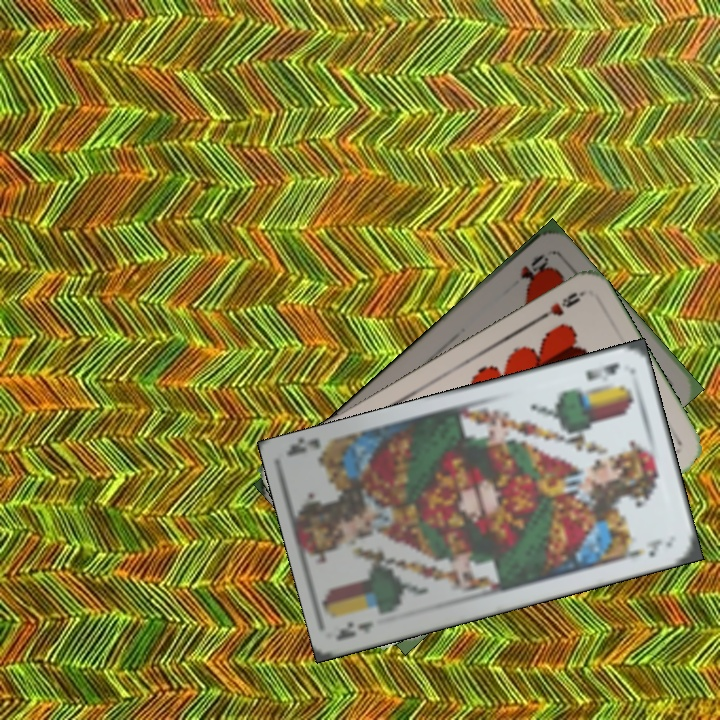EK: (334, 617, 377, 644), (582, 358, 621, 384)
H9: (532, 287, 586, 325)
HO: (516, 249, 552, 283)
